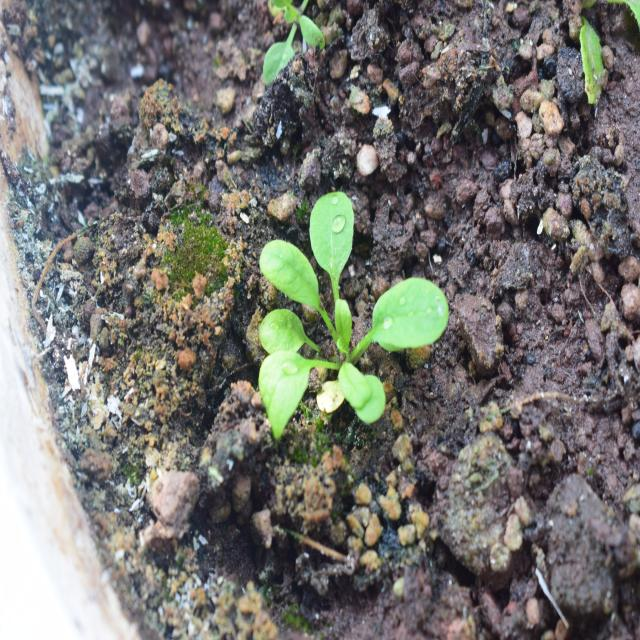Shepherd_Purse: (256, 171, 443, 427)
